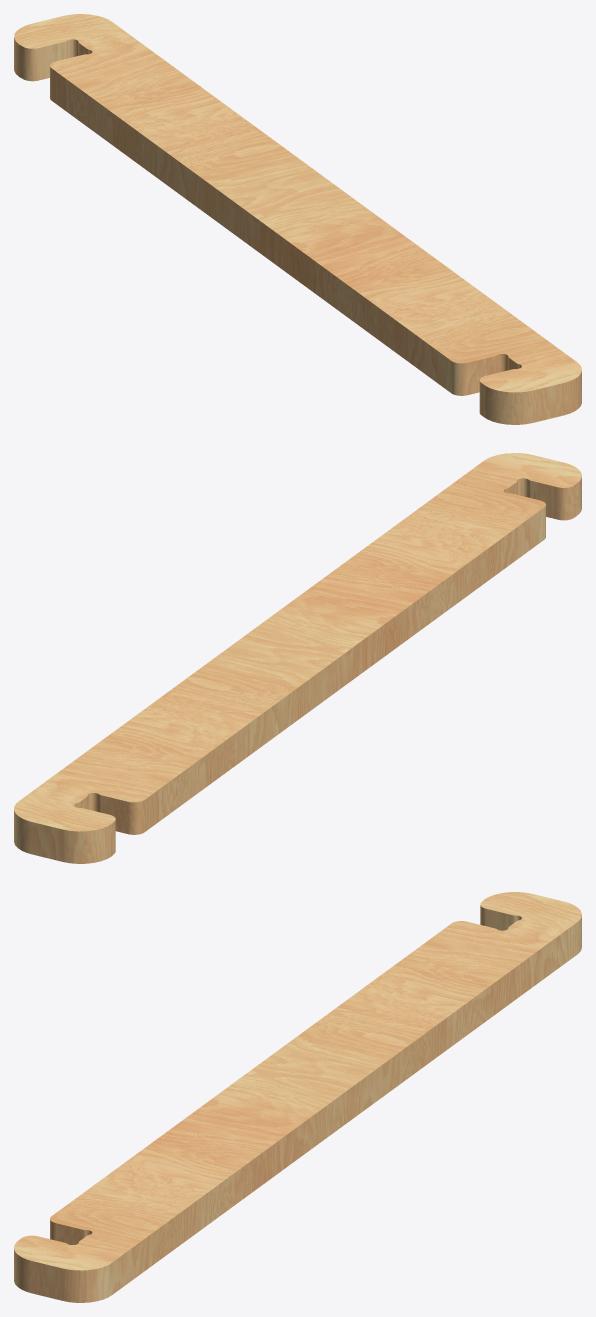
Rendered from sururu_madeira_1.glb.
3 renders of one model, top to bottom at view 1: azimuth 30°, elevation 25°; view 2: azimuth 150°, elevation 25°; view 3: azimuth 330°, elevation 25°, orthographic.
Parts seen in each view (by area): view 1: Sururu; view 2: Sururu; view 3: Sururu.
Part boxes in pixels (<box>): Sururu: <box>14,14,581,424</box>; Sururu: <box>14,453,581,863</box>; Sururu: <box>14,892,581,1302</box>.
Size of the model in its own units: 0.045 by 0.015 by 0.42.
1 material, 1 textured.
